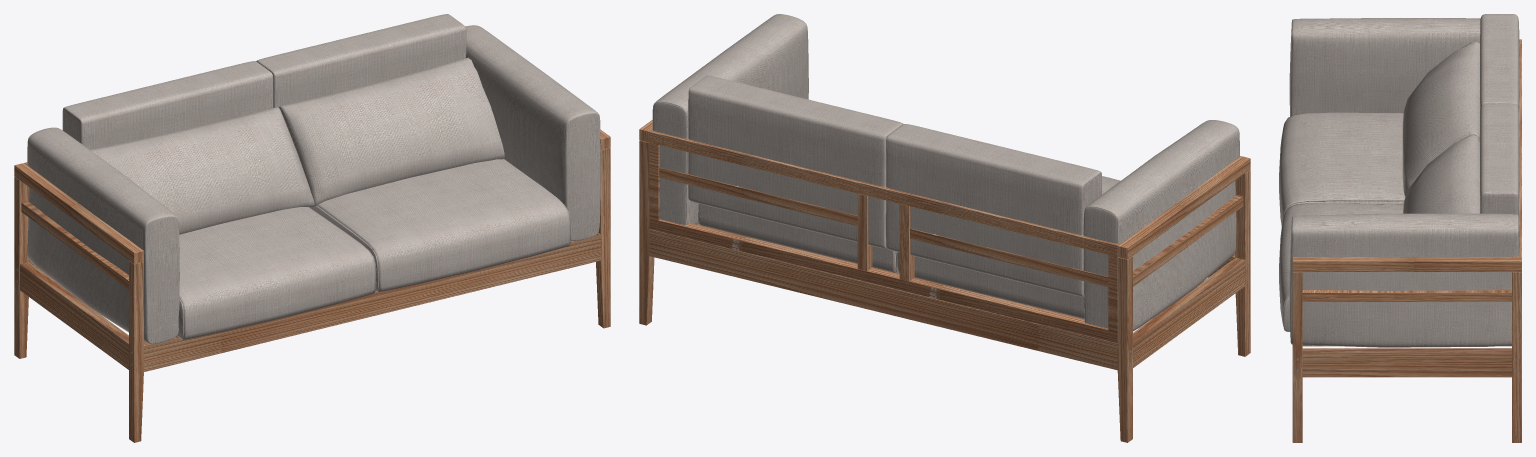
3 renders of one model, left to right at view 1: azimuth 30°, elevation 25°; view 2: azimuth 150°, elevation 25°; view 3: azimuth 270°, elevation 25°, orthographic. The views are drawn at different scales.
Visible parts, largest first — view 1: 对象002, 对象003, 对象001, Box008, 对象004, 对象007, Rectangle003, 对象005, 对象006, Line007, Rectangle004, Line004; view 2: 对象005, 对象006, Rectangle003, Box008, Rectangle002, 对象007, Line007, Line004, 对象002, 对象001, Rectangle004, Line005; view 3: 对象007, Box008, 对象001, 对象004, Rectangle003, 对象003, 对象006, Line007, 对象005, Rectangle007, 对象002, Line004 (+1 smaller).
Boxes of the visible parts, x1=… form: 对象002: x1=310, y1=159, x2=571, y2=292; 对象003: x1=279, y1=57, x2=504, y2=206; 对象001: x1=177, y1=207, x2=376, y2=339; Box008: x1=27, y1=127, x2=179, y2=344; 对象004: x1=90, y1=107, x2=314, y2=234; 对象007: x1=465, y1=25, x2=600, y2=240; Rectangle003: x1=20, y1=232, x2=600, y2=371; 对象005: x1=62, y1=61, x2=273, y2=149; 对象006: x1=256, y1=14, x2=466, y2=107; Line007: x1=14, y1=148, x2=610, y2=442; Rectangle004: x1=14, y1=163, x2=143, y2=263; Line004: x1=21, y1=201, x2=128, y2=290; 对象005: x1=886, y1=124, x2=1101, y2=296; 对象006: x1=688, y1=75, x2=903, y2=248; Rectangle003: x1=649, y1=229, x2=1244, y2=370; Box008: x1=1083, y1=120, x2=1239, y2=331; Rectangle002: x1=649, y1=129, x2=1122, y2=343; 对象007: x1=652, y1=14, x2=808, y2=224; Line007: x1=639, y1=140, x2=1250, y2=442; Line004: x1=659, y1=167, x2=1243, y2=286; 对象002: x1=697, y1=203, x2=897, y2=273; 对象001: x1=896, y1=176, x2=1120, y2=318; Rectangle004: x1=1117, y1=156, x2=1250, y2=259; Line005: x1=857, y1=193, x2=914, y2=281; 对象007: x1=1289, y1=213, x2=1519, y2=347; Box008: x1=1289, y1=18, x2=1519, y2=116; 对象001: x1=1279, y1=112, x2=1405, y2=226; 对象004: x1=1402, y1=41, x2=1479, y2=196; Rectangle003: x1=1302, y1=348, x2=1511, y2=377; 对象003: x1=1402, y1=134, x2=1479, y2=213; 对象006: x1=1480, y1=104, x2=1518, y2=216; Line007: x1=1292, y1=272, x2=1521, y2=442; 对象005: x1=1480, y1=14, x2=1518, y2=124; Rectangle007: x1=1292, y1=257, x2=1521, y2=271; 对象002: x1=1279, y1=203, x2=1403, y2=331; Line004: x1=1302, y1=290, x2=1511, y2=301.
Bounding box in the file's own units: 1572 × 756 × 726.
